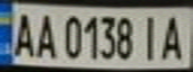0: (60, 11, 81, 60)
1: (81, 11, 100, 61)
3: (97, 12, 118, 61)
8: (115, 12, 139, 61)
A: (157, 11, 190, 62), (9, 8, 39, 59), (30, 9, 57, 60)
I: (136, 11, 163, 62)
